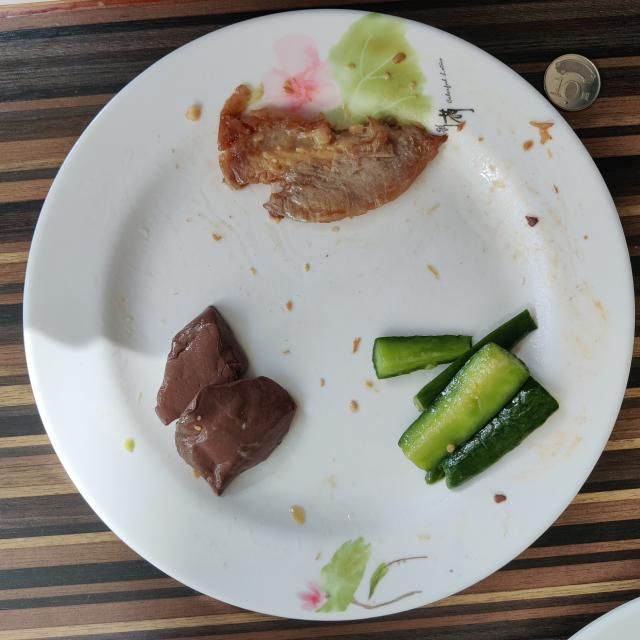Kabayaki sea bream fillet: (218, 85, 448, 222)
coin: (544, 54, 600, 111)
cucumber: (372, 310, 559, 488)
pig blood curd: (155, 306, 296, 495)
